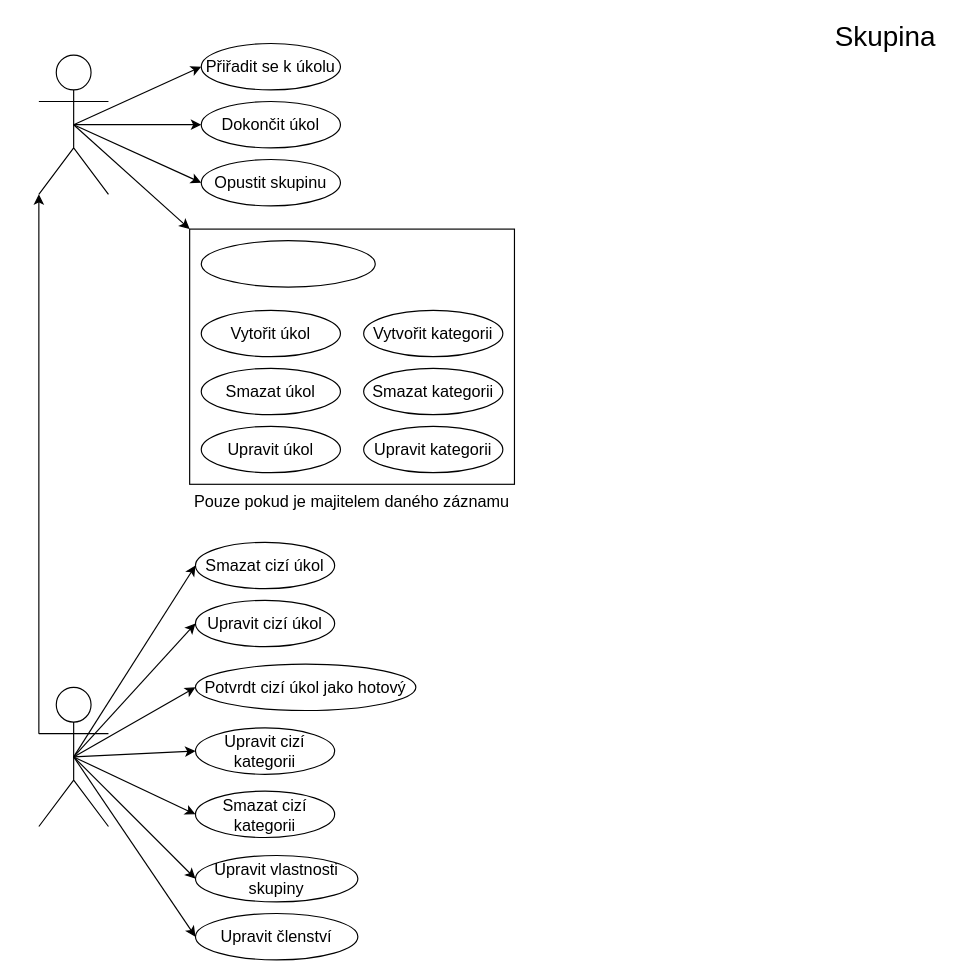
Some shapes in this 956 by 980 pixel diagram are drawn without their labels. The centre of each missing label's shape, as x and y in pixels:
"Majitel skupiny" goes at (73,756).
"Potvrdit úkol jako hotový" goes at (287,263).
"Člen" goes at (73,124).
